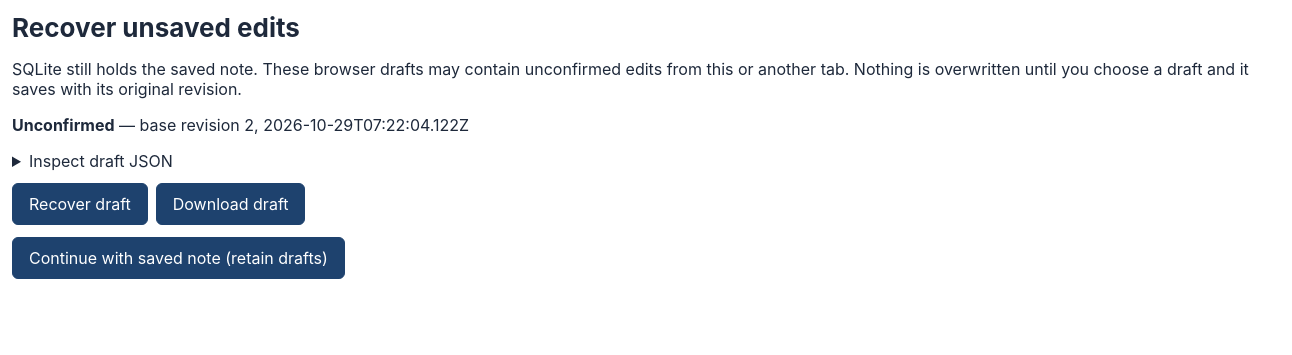
Test case: blocks automatic writes when the saved note has a newer revision
Click the button "Recover draft". click: (80, 204)
box: [12,183,148,225]
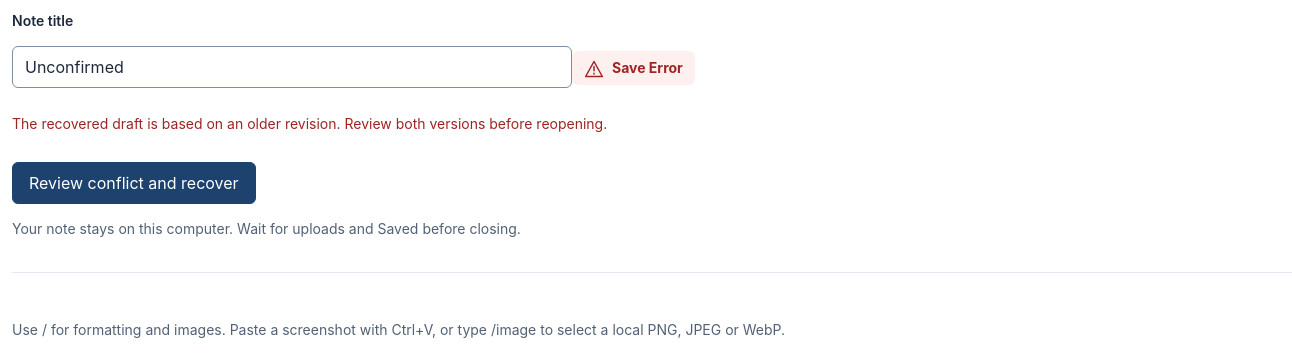
Expected: the text "Save Error" is shown, [572,51,695,85]
Expected: the button "Review conflict and recover" is shown, [12,162,256,204]
